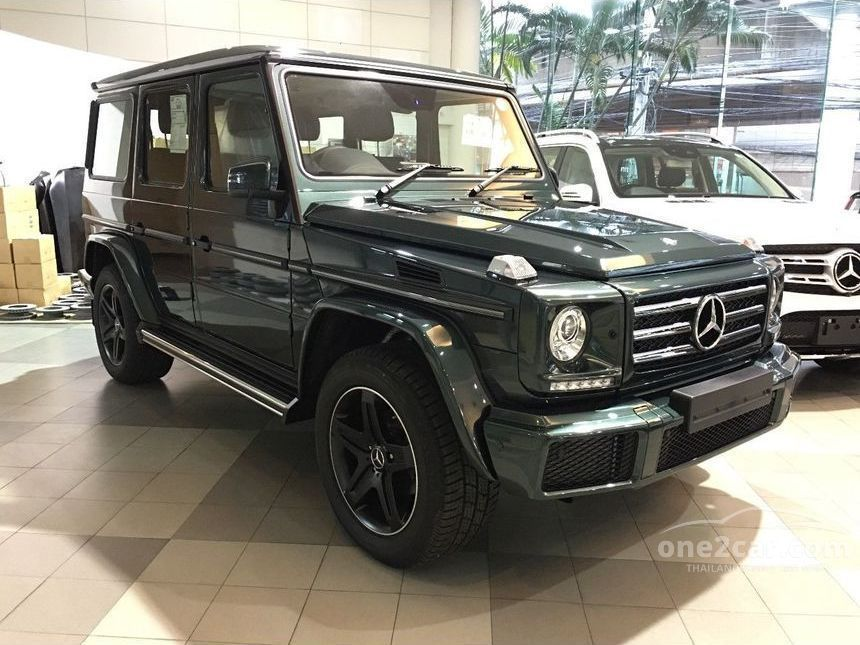pickup: (77, 44, 799, 573)
